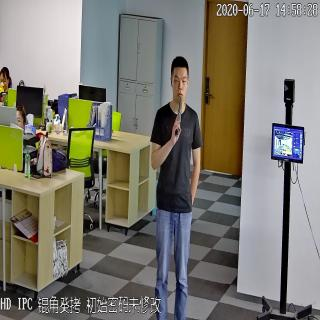gun: (174, 94, 183, 140)
